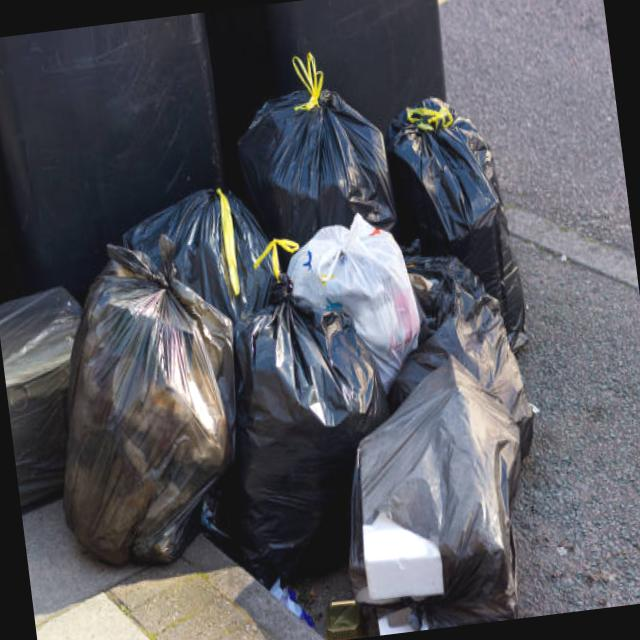garbage: (0, 23, 566, 640)
